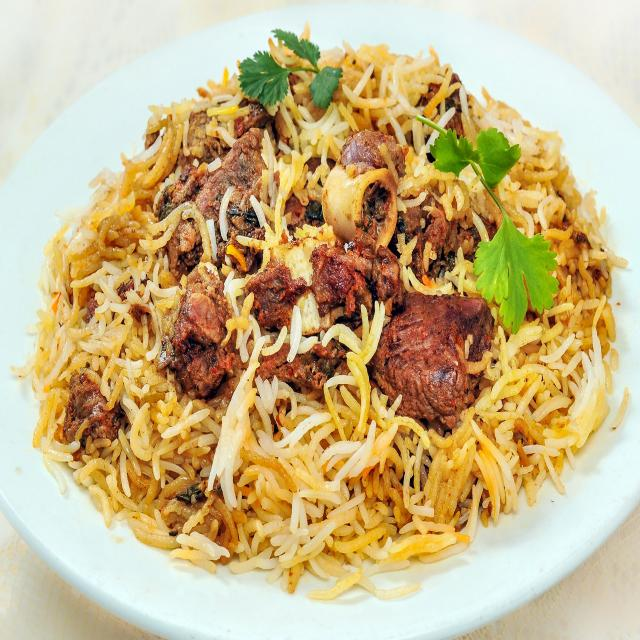Biryani: (8, 23, 632, 602)
